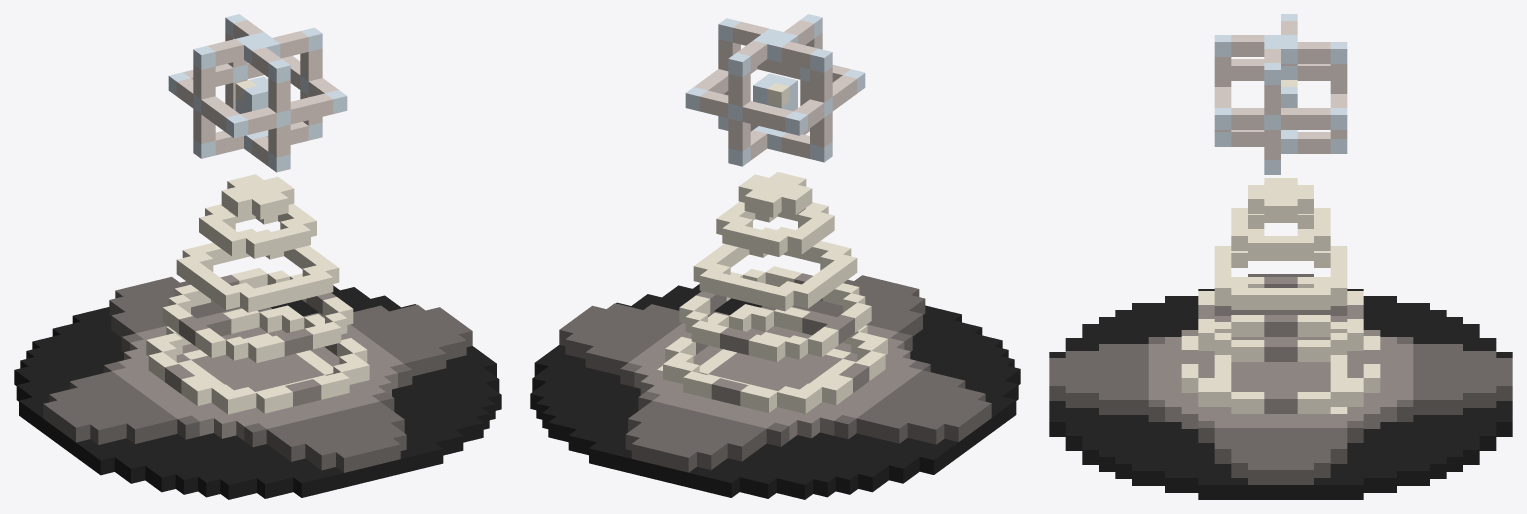
Rendered from Centure.obj.
3 views of the same model, side by side, from view 1: azimuth 30°, elevation 25°; view 2: azimuth 150°, elevation 25°; view 3: azimuth 270°, elevation 25° (orthographic).
Visible parts, largest first — view 1: Centure; view 2: Centure; view 3: Centure.
Boxes of the visible parts, x1,y1,x2,y2 form: Centure: (14,14,501,499); Centure: (530,14,1020,499); Centure: (1049,14,1512,499).
Size of the model in its own units: 2.8 by 2.4 by 2.8.
Materials: 1 (1 with a texture image).
